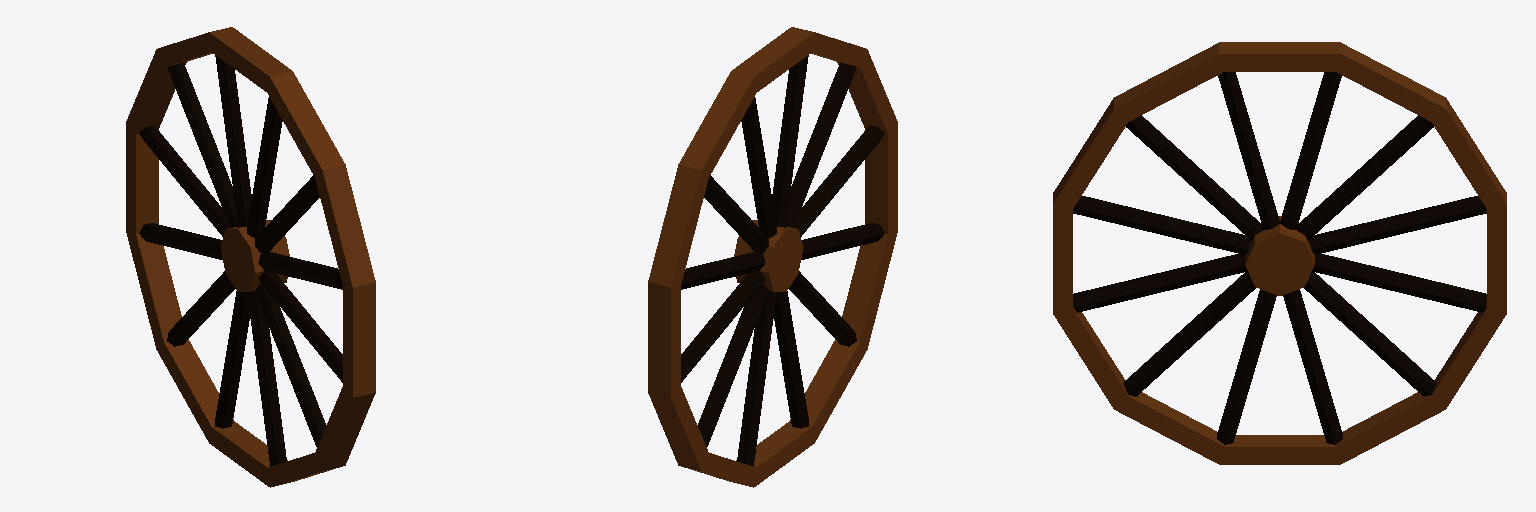
The model's file is Wheel_A.obj.
3 views of the same model, side by side, from view 1: azimuth 30°, elevation 25°; view 2: azimuth 150°, elevation 25°; view 3: azimuth 270°, elevation 25° (orthographic).
Parts seen in each view (by area): view 1: Wheel_A; view 2: Wheel_A; view 3: Wheel_A.
Part boxes in pixels (bbox=[...]): Wheel_A: bbox=[126, 27, 375, 487]; Wheel_A: bbox=[648, 27, 897, 487]; Wheel_A: bbox=[1053, 42, 1506, 464].
Size of the model in its own units: 0.8672 by 9.42 by 9.42.